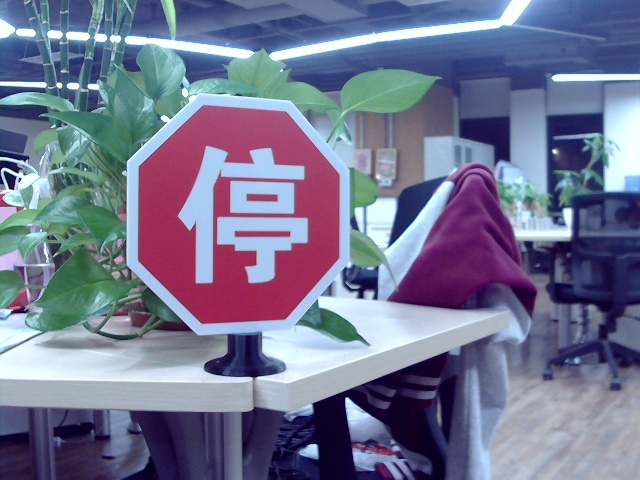stop: (170, 139, 315, 287)
